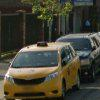Car: (2, 32, 93, 100)
